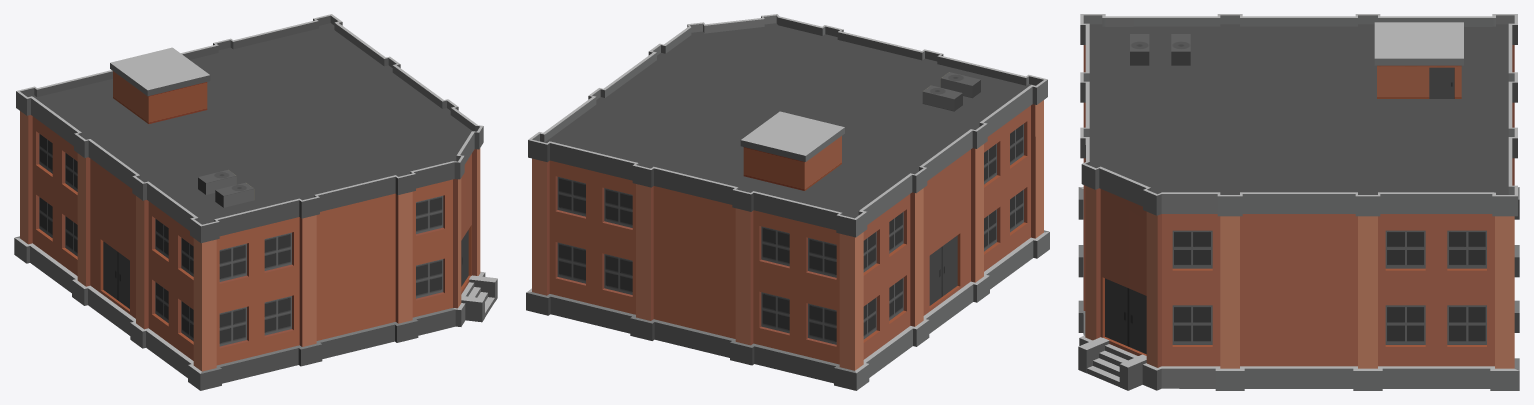
File: factory_large_corner_mesh.fbx
The picture shows the model from 3 angles, left to right: view 1: azimuth 30°, elevation 25°; view 2: azimuth 150°, elevation 25°; view 3: azimuth 270°, elevation 25°; orthographic projection. The views are drawn at different scales.
Visible parts, largest first — view 1: factory_large_corner_mesh; view 2: factory_large_corner_mesh; view 3: factory_large_corner_mesh.
Boxes of the visible parts, left/top/right/bottom form: factory_large_corner_mesh: left=14, top=14, right=497, bottom=390; factory_large_corner_mesh: left=526, top=14, right=1049, bottom=390; factory_large_corner_mesh: left=1078, top=14, right=1519, bottom=390.
Size of the model in its own units: 23.69 by 13.62 by 24.03.
Materials: 1 (1 with a texture image).
